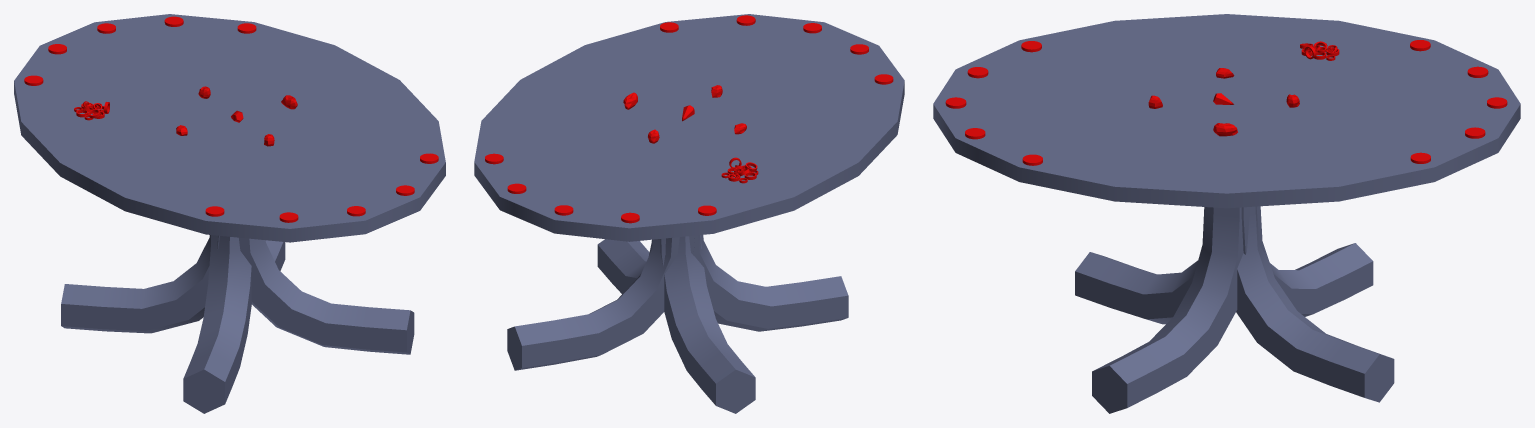
The model's file is mesa1Invo.fbx.
3 views of the same model, side by side, from view 1: azimuth 30°, elevation 25°; view 2: azimuth 150°, elevation 25°; view 3: azimuth 270°, elevation 25° (orthographic). The views are drawn at different scales.
Parts seen in each view (by area): view 1: pCylinder281, polySurface4867, polySurface4876, polySurface4881; view 2: pCylinder281, polySurface4867, polySurface4881, polySurface4876; view 3: pCylinder281, polySurface4867, polySurface4881, polySurface4876.
Part boxes in pixels (x1,y1,x2,y2): pCylinder281: [14, 14, 445, 242]; polySurface4867: [61, 235, 414, 413]; polySurface4876: [24, 16, 256, 85]; polySurface4881: [205, 153, 438, 222]; pCylinder281: [474, 14, 904, 241]; polySurface4867: [507, 235, 848, 413]; polySurface4881: [660, 15, 893, 84]; polySurface4876: [485, 153, 716, 223]; pCylinder281: [933, 14, 1520, 208]; polySurface4867: [1075, 206, 1394, 413]; polySurface4881: [945, 41, 1042, 165]; polySurface4876: [1410, 40, 1507, 163].
Size of the model in its own units: 181 by 120 by 250.
